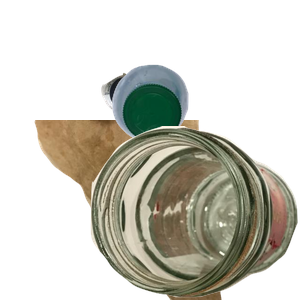glass: (90, 126, 300, 300)
metal: (99, 70, 236, 176)
plastic: (110, 62, 300, 198)
trash: (32, 120, 248, 300)
